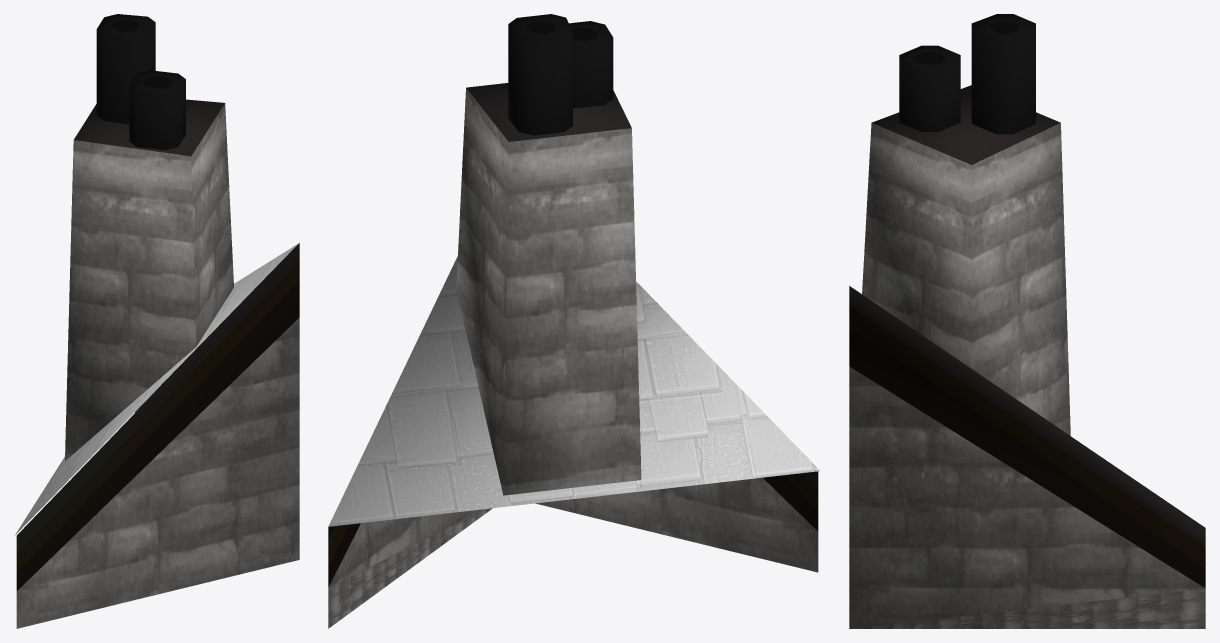
3 renders of one model, left to right at view 1: azimuth 30°, elevation 25°; view 2: azimuth 150°, elevation 25°; view 3: azimuth 270°, elevation 25°, orthographic. The views are drawn at different scales.
Visible parts, largest first — view 1: 631; view 2: 631; view 3: 631.
Boxes of the visible parts, <box> form: 631: <box>15,14,299,628</box>; 631: <box>328,14,820,628</box>; 631: <box>849,14,1205,628</box>.
Bounding box in the file's own units: 1.28 × 2.17 × 1.28.
Materials: 3 (2 with a texture image).
